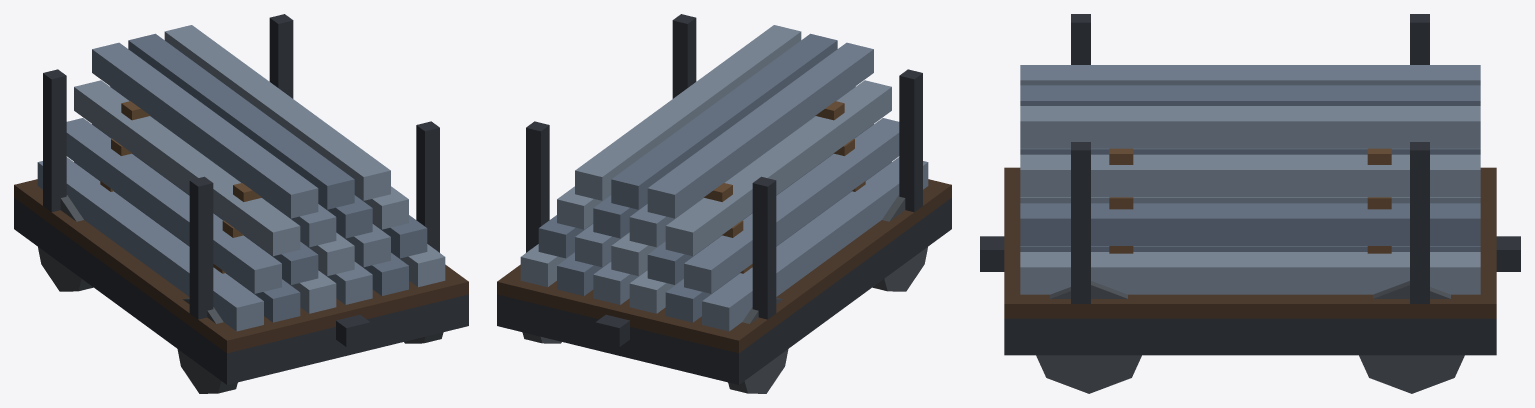
Rendered from wagon_iron.glb.
The picture shows the model from 3 angles, left to right: view 1: azimuth 30°, elevation 25°; view 2: azimuth 150°, elevation 25°; view 3: azimuth 270°, elevation 25°; orthographic projection. The views are drawn at different scales.
Parts seen in each view (by area): view 1: wagon_iron; view 2: wagon_iron; view 3: wagon_iron.
Boxes of the visible parts, left/top/right/bottom form: wagon_iron: left=14, top=14, right=468, bottom=393; wagon_iron: left=497, top=14, right=951, bottom=393; wagon_iron: left=980, top=14, right=1520, bottom=393.
Size of the model in its own units: 0.8 by 0.68 by 1.34.
